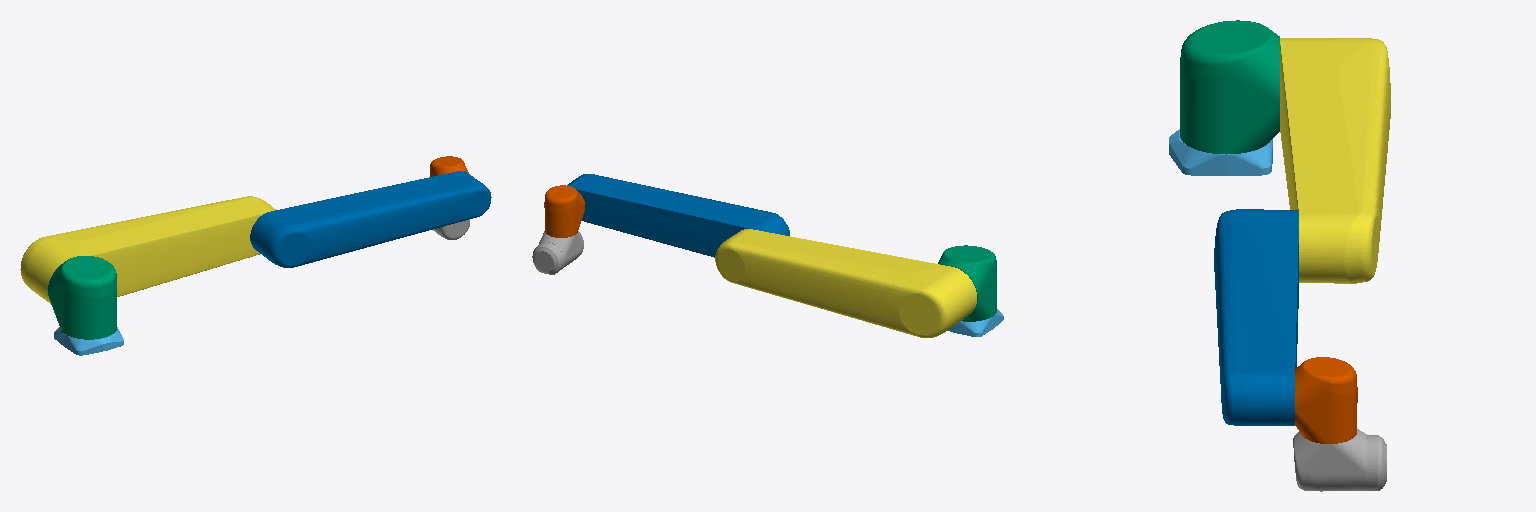
robot.urdf — robot:
<?xml version="0.0" ?>
<robot name="">
	<link name="world">
		<inertial>
			<origin rpy="0.00000 -0.00000 0.00000" xyz="0.00000 0.00000 0.00000"/>
			<mass value="0.00000"/>
			<inertia ixx="0.00000" ixy="0" ixz="0" iyy="0.00000" iyz="0" izz="0.00000"/>
		</inertial>
	</link>
	<link name="base_link">
		<inertial>
			<origin rpy="0.00000 -0.00000 0.00000" xyz="0.00000 0.00000 0.00000"/>
			<mass value="4.00000"/>
			<inertia ixx="0.01063" ixy="0" ixz="0" iyy="0.00875" iyz="0" izz="0.01810"/>
		</inertial>
		<visual>
			<origin rpy="0.00000 -0.00000 0.00000" xyz="0.00000 0.00000 0.00000"/>
			<geometry>
				<mesh filename="ur_description/meshes/ur10/visual/Base.obj" scale="1.00000 1.00000 1.00000"/>
			</geometry>
		</visual>
		<collision>
			<origin rpy="0.00000 -0.00000 0.00000" xyz="0.00000 0.00000 0.00000"/>
			<geometry>
				<mesh filename="ur_description/meshes/ur10/collision/Base.obj" scale="1.00000 1.00000 1.00000"/>
			</geometry>
		</collision>
	</link>
	<link name="shoulder_link">
		<inertial>
			<origin rpy="0.00000 -0.00000 0.00000" xyz="0.00000 0.00000 0.00000"/>
			<mass value="7.77800"/>
			<inertia ixx="0.03987" ixy="0" ixz="0" iyy="0.03759" iyz="0" izz="0.03396"/>
		</inertial>
		<visual>
			<origin rpy="0.00000 -0.00000 0.00000" xyz="0.00000 0.00000 0.00000"/>
			<geometry>
				<mesh filename="ur_description/meshes/ur10/visual/Shoulder.obj" scale="1.00000 1.00000 1.00000"/>
			</geometry>
		</visual>
		<collision>
			<origin rpy="0.00000 -0.00000 0.00000" xyz="0.00000 0.00000 0.00000"/>
			<geometry>
				<mesh filename="ur_description/meshes/ur10/collision/Shoulder.obj" scale="1.00000 1.00000 1.00000"/>
			</geometry>
		</collision>
	</link>
	<link name="upper_arm_link">
		<inertial>
			<origin rpy="0.00000 -0.00000 0.00000" xyz="0.00000 0.00000 0.30600"/>
			<mass value="12.93000"/>
			<inertia ixx="0.65263" ixy="0" ixz="0" iyy="0.64257" iyz="0" izz="0.06386"/>
		</inertial>
		<visual>
			<origin rpy="0.00000 -0.00000 0.00000" xyz="0.00000 0.00000 0.00000"/>
			<geometry>
				<mesh filename="ur_description/meshes/ur10/visual/UpperArm.obj" scale="1.00000 1.00000 1.00000"/>
			</geometry>
		</visual>
		<collision>
			<origin rpy="0.00000 -0.00000 0.00000" xyz="0.00000 0.00000 0.00000"/>
			<geometry>
				<mesh filename="ur_description/meshes/ur10/collision/UpperArm.obj" scale="1.00000 1.00000 1.00000"/>
			</geometry>
		</collision>
	</link>
	<link name="forearm_link">
		<inertial>
			<origin rpy="0.00000 -0.00000 0.00000" xyz="0.00000 0.00000 0.28615"/>
			<mass value="3.87000"/>
			<inertia ixx="0.15827" ixy="0" ixz="0" iyy="0.15685" iyz="0" izz="0.01199"/>
		</inertial>
		<visual>
			<origin rpy="0.00000 -0.00000 0.00000" xyz="0.00000 0.00000 0.00000"/>
			<geometry>
				<mesh filename="ur_description/meshes/ur10/visual/Forearm.obj" scale="1.00000 1.00000 1.00000"/>
			</geometry>
		</visual>
		<collision>
			<origin rpy="0.00000 -0.00000 0.00000" xyz="0.00000 0.00000 0.00000"/>
			<geometry>
				<mesh filename="ur_description/meshes/ur10/collision/Forearm.obj" scale="1.00000 1.00000 1.00000"/>
			</geometry>
		</collision>
	</link>
	<link name="wrist_1_link">
		<inertial>
			<origin rpy="0.00000 -0.00000 0.00000" xyz="0.00000 0.00000 0.00000"/>
			<mass value="1.96000"/>
			<inertia ixx="0.00437" ixy="0" ixz="0" iyy="0.00408" iyz="0" izz="0.00337"/>
		</inertial>
		<visual>
			<origin rpy="0.00000 -0.00000 0.00000" xyz="0.00000 0.00000 0.00000"/>
			<geometry>
				<mesh filename="ur_description/meshes/ur10/visual/Wrist1.obj" scale="1.00000 1.00000 1.00000"/>
			</geometry>
		</visual>
		<collision>
			<origin rpy="0.00000 -0.00000 0.00000" xyz="0.00000 0.00000 0.00000"/>
			<geometry>
				<mesh filename="ur_description/meshes/ur10/collision/Wrist1.obj" scale="1.00000 1.00000 1.00000"/>
			</geometry>
		</collision>
	</link>
	<link name="wrist_2_link">
		<inertial>
			<origin rpy="0.00000 -0.00000 0.00000" xyz="0.00000 0.00000 0.00000"/>
			<mass value="1.96000"/>
			<inertia ixx="0.00437" ixy="0" ixz="0" iyy="0.00337" iyz="0" izz="0.00408"/>
		</inertial>
		<visual>
			<origin rpy="0.00000 -0.00000 0.00000" xyz="0.00000 0.00000 0.00000"/>
			<geometry>
				<mesh filename="ur_description/meshes/ur10/visual/Wrist2.obj" scale="1.00000 1.00000 1.00000"/>
			</geometry>
			<material name="mat_5_0">
				<color rgba="0.70000 0.70000 0.70000 1.00000" />
			</material>
		</visual>
		<collision>
			<origin rpy="0.00000 -0.00000 0.00000" xyz="0.00000 0.00000 0.00000"/>
			<geometry>
				<mesh filename="ur_description/meshes/ur10/collision/Wrist2.obj" scale="1.00000 1.00000 1.00000"/>
			</geometry>
		</collision>
	</link>
	<link name="wrist_3_link">
		<inertial>
			<origin rpy="0.00000 -0.00000 0.00000" xyz="0.00000 0.00000 0.00000"/>
			<mass value="0.20200"/>
			<inertia ixx="0.00018" ixy="0" ixz="0" iyy="0.00031" iyz="0" izz="0.00018"/>
		</inertial>
		<visual>
			<origin rpy="0.00000 -0.00000 0.00000" xyz="0.00000 0.00000 0.00000"/>
			<geometry>
				<mesh filename="ur_description/meshes/ur10/visual/Wrist3.obj" scale="1.00000 1.00000 1.00000"/>
			</geometry>
		</visual>
		<collision>
			<origin rpy="0.00000 -0.00000 0.00000" xyz="0.00000 0.00000 0.00000"/>
			<geometry>
				<mesh filename="ur_description/meshes/ur10/collision/Wrist3.obj" scale="1.00000 1.00000 1.00000"/>
			</geometry>
		</collision>
	</link>
	<link name="rh_p12_rn_mount">
		<inertial>
			<origin rpy="0.00000 -0.00000 0.00000" xyz="0.00000 0.00000 0.00000"/>
			<mass value="0.00000"/>
			<inertia ixx="0.00000" ixy="0" ixz="0" iyy="0.00000" iyz="0" izz="0.00000"/>
		</inertial>
		<visual>
			<origin rpy="0.00000 -0.00000 0.00000" xyz="0.00000 0.00000 0.00000"/>
			<geometry>
				<mesh filename="rh_p12_rn_description/meshes/mount.stl" scale="0.00100 0.00100 0.00100"/>
			</geometry>
			<material name="mat_-1_0">
				<color rgba="0.75000 0.75000 0.75000 1.00000" />
			</material>
		</visual>
		<collision>
			<origin rpy="0.00000 -0.00000 0.00000" xyz="0.00000 0.00000 0.00000"/>
			<geometry>
				<mesh filename="rh_p12_rn_description/meshes/mount.stl" scale="0.00100 0.00100 0.00100"/>
			</geometry>
		</collision>
	</link>
	<link name="rh_p12_rn_base">
		<inertial>
			<origin rpy="0.00000 -0.00000 0.00000" xyz="0.00000 0.00000 0.03200"/>
			<mass value="0.23600"/>
			<inertia ixx="0.00023" ixy="0" ixz="0" iyy="0.00015" iyz="0" izz="0.00022"/>
		</inertial>
		<visual>
			<origin rpy="0.00000 -0.00000 0.00000" xyz="0.00000 0.00000 0.00000"/>
			<geometry>
				<mesh filename="rh_p12_rn_description/meshes/base.stl" scale="0.00100 0.00100 0.00100"/>
			</geometry>
			<material name="mat_0_0">
				<color rgba="0.20000 0.20000 0.20000 1.00000" />
			</material>
		</visual>
		<collision>
			<origin rpy="0.00000 -0.00000 0.00000" xyz="0.00000 0.00000 0.00000"/>
			<geometry>
				<mesh filename="rh_p12_rn_description/meshes/base.stl" scale="0.00100 0.00100 0.00100"/>
			</geometry>
		</collision>
	</link>
	<link name="rh_p12_rn_r1">
		<inertial>
			<origin rpy="0.00000 -0.00000 0.00000" xyz="0.00000 0.03400 0.00400"/>
			<mass value="0.06800"/>
			<inertia ixx="0.00006" ixy="0" ixz="0" iyy="0.00003" iyz="0" izz="0.00004"/>
		</inertial>
		<visual>
			<origin rpy="0.00000 -0.00000 0.00000" xyz="0.00000 0.00000 0.00000"/>
			<geometry>
				<mesh filename="rh_p12_rn_description/meshes/r1.stl" scale="0.00100 0.00100 0.00100"/>
			</geometry>
			<material name="mat_1_0">
				<color rgba="0.20000 0.20000 0.20000 1.00000" />
			</material>
		</visual>
		<collision>
			<origin rpy="0.00000 -0.00000 0.00000" xyz="0.00000 0.00000 0.00000"/>
			<geometry>
				<mesh filename="rh_p12_rn_description/meshes/r1.stl" scale="0.00100 0.00100 0.00100"/>
			</geometry>
		</collision>
	</link>
	<link name="rh_p12_rn_r2">
		<inertial>
			<origin rpy="0.00000 -0.00000 0.00000" xyz="0.00000 0.00600 0.01100"/>
			<mass value="0.02200"/>
			<inertia ixx="0.00001" ixy="0" ixz="0" iyy="0.00001" iyz="0" izz="0.00000"/>
		</inertial>
		<visual>
			<origin rpy="0.00000 -0.00000 0.00000" xyz="0.00000 0.00000 0.00000"/>
			<geometry>
				<mesh filename="rh_p12_rn_description/meshes/r2_digit_mount_scaled_collision.stl" scale="0.00100 0.00100 0.00100"/>
			</geometry>
			<material name="mat_2_0">
				<color rgba="0.20000 0.20000 0.20000 1.00000" />
			</material>
		</visual>
		<collision>
			<origin rpy="0.00000 -0.00000 0.00000" xyz="0.00000 0.00000 0.00000"/>
			<geometry>
				<mesh filename="rh_p12_rn_description/meshes/r2_digit_mount_scaled_collision.stl" scale="0.00100 0.00100 0.00100"/>
			</geometry>
		</collision>
	</link>
	<link name="rh_p12_rn_l1">
		<inertial>
			<origin rpy="0.00000 -0.00000 0.00000" xyz="0.00000 -0.03400 0.00400"/>
			<mass value="0.06800"/>
			<inertia ixx="0.00006" ixy="0" ixz="0" iyy="0.00003" iyz="0" izz="0.00004"/>
		</inertial>
		<visual>
			<origin rpy="0.00000 -0.00000 0.00000" xyz="0.00000 0.00000 0.00000"/>
			<geometry>
				<mesh filename="rh_p12_rn_description/meshes/l1.stl" scale="0.00100 0.00100 0.00100"/>
			</geometry>
			<material name="mat_3_0">
				<color rgba="0.20000 0.20000 0.20000 1.00000" />
			</material>
		</visual>
		<collision>
			<origin rpy="0.00000 -0.00000 0.00000" xyz="0.00000 0.00000 0.00000"/>
			<geometry>
				<mesh filename="rh_p12_rn_description/meshes/l1.stl" scale="0.00100 0.00100 0.00100"/>
			</geometry>
		</collision>
	</link>
	<link name="rh_p12_rn_l2">
		<inertial>
			<origin rpy="0.00000 -0.00000 0.00000" xyz="0.00000 -0.00600 0.01100"/>
			<mass value="0.02200"/>
			<inertia ixx="0.00001" ixy="0" ixz="0" iyy="0.00001" iyz="0" izz="0.00000"/>
		</inertial>
		<visual>
			<origin rpy="0.00000 -0.00000 0.00000" xyz="0.00000 0.00000 0.00000"/>
			<geometry>
				<mesh filename="rh_p12_rn_description/meshes/l2_digit_mount_scaled_collision.stl" scale="0.00100 0.00100 0.00100"/>
			</geometry>
			<material name="mat_4_0">
				<color rgba="0.20000 0.20000 0.20000 1.00000" />
			</material>
		</visual>
		<collision>
			<origin rpy="0.00000 -0.00000 0.00000" xyz="0.00000 0.00000 0.00000"/>
			<geometry>
				<mesh filename="rh_p12_rn_description/meshes/l2_digit_mount_scaled_collision.stl" scale="0.00100 0.00100 0.00100"/>
			</geometry>
		</collision>
	</link>
	<link name="tcp">
		<inertial>
			<origin rpy="0.00000 -0.00000 0.00000" xyz="0.00000 0.00000 0.00000"/>
			<mass value="0.00000"/>
			<inertia ixx="0.00000" ixy="0" ixz="0" iyy="0.00000" iyz="0" izz="0.00000"/>
		</inertial>
	</link>
	<joint name="world_joint" type="fixed">
		<parent link="world"/>
		<child link="base_link"/>
<limit effort="0.00000" lower="0.00000" upper="-1.00000" velocity="0.00000"/>		<dynamics damping="1.0" friction="0.0001"/>
		<origin rpy="0.00000 -0.00000 0.00000" xyz="0.00000 0.00000 0.00000"/>
		<axis xyz="0.00000 0.00000 0.00000"/>
	</joint>
	<joint name="shoulder_pan_joint" type="revolute">
		<parent link="base_link"/>
		<child link="shoulder_link"/>
<limit effort="330.00000" lower="-6.28319" upper="6.28319" velocity="2.16000"/>		<dynamics damping="1.0" friction="0.0001"/>
		<origin rpy="0.00000 -0.00000 0.00000" xyz="0.00000 0.00000 0.12730"/>
		<axis xyz="0.00000 0.00000 1.00000"/>
	</joint>
	<joint name="shoulder_lift_joint" type="revolute">
		<parent link="shoulder_link"/>
		<child link="upper_arm_link"/>
<limit effort="330.00000" lower="-6.28319" upper="6.28319" velocity="2.16000"/>		<dynamics damping="1.0" friction="0.0001"/>
		<origin rpy="0.00000 1.57080 -0.00000" xyz="0.00000 0.22094 0.00000"/>
		<axis xyz="0.00000 1.00000 0.00000"/>
	</joint>
	<joint name="elbow_joint" type="revolute">
		<parent link="upper_arm_link"/>
		<child link="forearm_link"/>
<limit effort="150.00000" lower="-6.28319" upper="6.28319" velocity="3.15000"/>		<dynamics damping="1.0" friction="0.0001"/>
		<origin rpy="0.00000 -0.00000 0.00000" xyz="0.00000 -0.17190 0.61200"/>
		<axis xyz="0.00000 1.00000 0.00000"/>
	</joint>
	<joint name="wrist_1_joint" type="revolute">
		<parent link="forearm_link"/>
		<child link="wrist_1_link"/>
<limit effort="54.00000" lower="-6.28319" upper="6.28319" velocity="3.20000"/>		<dynamics damping="1.0" friction="0.0001"/>
		<origin rpy="0.00000 1.57080 -0.00000" xyz="0.00000 0.00000 0.57230"/>
		<axis xyz="0.00000 1.00000 0.00000"/>
	</joint>
	<joint name="wrist_2_joint" type="revolute">
		<parent link="wrist_1_link"/>
		<child link="wrist_2_link"/>
<limit effort="54.00000" lower="-6.28319" upper="6.28319" velocity="3.20000"/>		<dynamics damping="1.0" friction="0.0001"/>
		<origin rpy="0.00000 -0.00000 0.00000" xyz="0.00000 0.11490 0.00000"/>
		<axis xyz="0.00000 0.00000 1.00000"/>
	</joint>
	<joint name="wrist_3_joint" type="revolute">
		<parent link="wrist_2_link"/>
		<child link="wrist_3_link"/>
<limit effort="54.00000" lower="-6.28319" upper="6.28319" velocity="3.20000"/>		<dynamics damping="1.0" friction="0.0001"/>
		<origin rpy="0.00000 -0.00000 0.00000" xyz="0.00000 0.00000 0.11570"/>
		<axis xyz="0.00000 1.00000 0.00000"/>
	</joint>
	<joint name="gripper_wrist_joint" type="fixed">
		<parent link="wrist_3_link"/>
		<child link="rh_p12_rn_mount"/>
<limit effort="0.00000" lower="0.00000" upper="-1.00000" velocity="0.00000"/>		<dynamics damping="1.0" friction="0.0001"/>
		<origin rpy="-1.57080 0.00000 0.00000" xyz="0.00000 0.08252 0.00000"/>
		<axis xyz="0.00000 0.00000 1.00000"/>
	</joint>
	<joint name="rh_mount" type="fixed">
		<parent link="rh_p12_rn_mount"/>
		<child link="rh_p12_rn_base"/>
<limit effort="20.00000" lower="0.00000" upper="1.00000" velocity="6.50000"/>		<dynamics damping="1.0" friction="0.0001"/>
		<origin rpy="0.00000 -0.00000 0.00000" xyz="0.00000 0.00000 0.04500"/>
		<axis xyz="0.00000 0.00000 0.00000"/>
	</joint>
	<joint name="rh_r1" type="revolute">
		<parent link="rh_p12_rn_base"/>
		<child link="rh_p12_rn_r1"/>
<limit effort="20.00000" lower="0.00000" upper="1.10000" velocity="6.50000"/>		<dynamics damping="1.0" friction="0.0001"/>
		<origin rpy="0.00000 -0.00000 0.00000" xyz="0.00000 0.00800 0.04800"/>
		<axis xyz="1.00000 0.00000 0.00000"/>
	</joint>
	<joint name="rh_r2" type="fixed">
		<parent link="rh_p12_rn_r1"/>
		<child link="rh_p12_rn_r2"/>
<limit effort="20.00000" lower="0.00000" upper="1.00000" velocity="6.50000"/>		<dynamics damping="1.0" friction="0.0001"/>
		<origin rpy="-0.75000 0.00000 0.00000" xyz="0.00000 0.04936 0.02850"/>
		<axis xyz="0.00000 0.00000 0.00000"/>
	</joint>
	<joint name="rh_l1" type="revolute">
		<parent link="rh_p12_rn_base"/>
		<child link="rh_p12_rn_l1"/>
<limit effort="20.00000" lower="0.00000" upper="1.10000" velocity="6.50000"/>		<dynamics damping="1.0" friction="0.0001"/>
		<origin rpy="0.00000 -0.00000 0.00000" xyz="0.00000 -0.00800 0.04800"/>
		<axis xyz="-1.00000 0.00000 0.00000"/>
	</joint>
	<joint name="rh_l2" type="fixed">
		<parent link="rh_p12_rn_l1"/>
		<child link="rh_p12_rn_l2"/>
<limit effort="20.00000" lower="0.00000" upper="1.00000" velocity="6.50000"/>		<dynamics damping="1.0" friction="0.0001"/>
		<origin rpy="0.75000 -0.00000 0.00000" xyz="0.00000 -0.04936 0.02850"/>
		<axis xyz="0.00000 0.00000 0.00000"/>
	</joint>
	<joint name="tcp" type="fixed">
		<parent link="rh_p12_rn_base"/>
		<child link="tcp"/>
<limit effort="0.00000" lower="0.00000" upper="-1.00000" velocity="0.00000"/>		<dynamics damping="1.0" friction="0.0001"/>
		<origin rpy="0.00000 -0.00000 0.00000" xyz="0.00000 0.00000 0.14500"/>
		<axis xyz="0.00000 0.00000 0.00000"/>
	</joint>
</robot>

--- What the picture shows (computed from the rendered views, not written in the file) ---
The picture shows the robot from 3 angles, left to right: view 1: azimuth 30°, elevation 25°; view 2: azimuth 150°, elevation 25°; view 3: azimuth 270°, elevation 25°; orthographic projection.
Model robot with 15 links and 14 joints (8 revolute, 6 fixed), rooted at world, posed every joint at zero.
Links seen in each view (by area): view 1: upper_arm_link, forearm_link, shoulder_link, base_link, wrist_1_link; view 2: upper_arm_link, forearm_link, shoulder_link, wrist_1_link, wrist_3_link, wrist_2_link, base_link; view 3: upper_arm_link, forearm_link, shoulder_link, wrist_1_link, wrist_2_link, base_link, wrist_3_link.
Boxes of the visible links, x1=… form: upper_arm_link: x1=20, y1=196, x2=275, y2=303; forearm_link: x1=250, y1=171, x2=491, y2=267; shoulder_link: x1=48, y1=256, x2=116, y2=339; base_link: x1=54, y1=327, x2=123, y2=355; wrist_1_link: x1=430, y1=156, x2=468, y2=176; upper_arm_link: x1=715, y1=229, x2=976, y2=337; forearm_link: x1=567, y1=174, x2=789, y2=257; shoulder_link: x1=938, y1=245, x2=996, y2=321; wrist_1_link: x1=544, y1=185, x2=584, y2=237; wrist_3_link: x1=532, y1=242, x2=563, y2=274; wrist_2_link: x1=538, y1=231, x2=583, y2=269; base_link: x1=948, y1=309, x2=1003, y2=336; upper_arm_link: x1=1280, y1=38, x2=1390, y2=283; forearm_link: x1=1214, y1=209, x2=1298, y2=425; shoulder_link: x1=1180, y1=20, x2=1279, y2=154; wrist_1_link: x1=1295, y1=357, x2=1357, y2=443; wrist_2_link: x1=1293, y1=429, x2=1366, y2=491; base_link: x1=1169, y1=129, x2=1272, y2=175; wrist_3_link: x1=1367, y1=435, x2=1386, y2=490.
Bounding box of the posed robot: 1.31 × 0.3551 × 0.2501 m (x, y, z).
Meshes: 13 distinct files referenced, 7 mesh visuals loaded (7 OBJ); not drawn: 6 (reference not matched to a file when rendering).